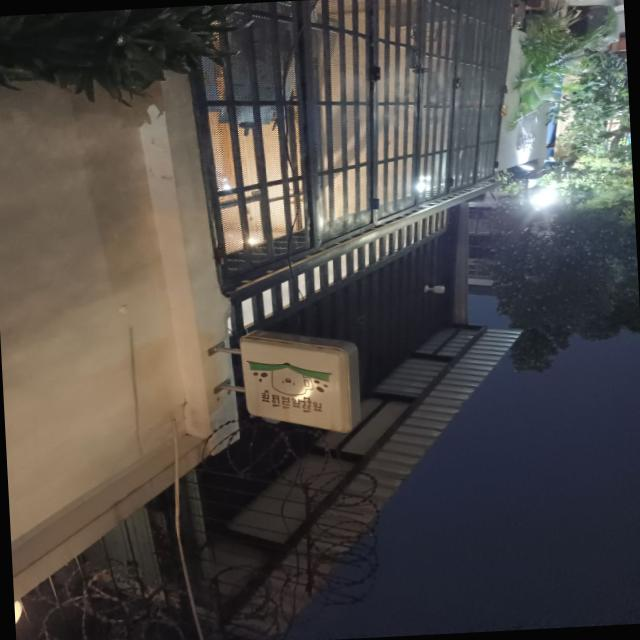Yolov11_80vkh: (257, 390, 330, 416)
